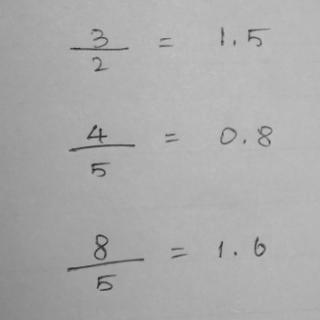.: (232, 249, 242, 259), (230, 38, 239, 48), (239, 137, 248, 146)
0: (214, 123, 239, 145)
1: (218, 25, 227, 49), (218, 237, 223, 260)
2: (89, 53, 113, 76)
3: (90, 24, 114, 51)
4: (87, 125, 106, 147)
5: (86, 156, 112, 181), (91, 270, 120, 292), (247, 26, 271, 48)
6: (252, 234, 268, 259)
8: (91, 233, 115, 264), (257, 123, 275, 147)
